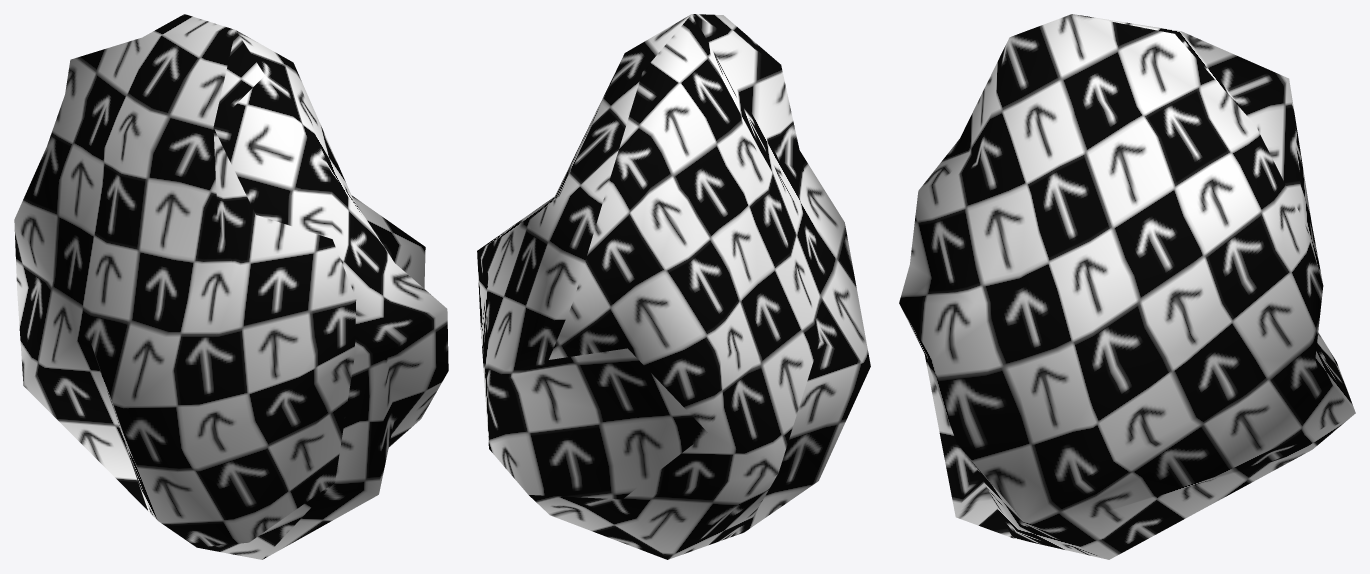
File: 05_meshwire_obj.fbx
The picture shows the model from 3 angles, left to right: view 1: azimuth 30°, elevation 25°; view 2: azimuth 150°, elevation 25°; view 3: azimuth 270°, elevation 25°; orthographic projection. The views are drawn at different scales.
Parts seen in each view (by area): view 1: _05_meshwire_obj; view 2: _05_meshwire_obj; view 3: _05_meshwire_obj.
Boxes of the visible parts, x1,y1,x2,y2 form: _05_meshwire_obj: [14, 14, 448, 559]; _05_meshwire_obj: [477, 14, 870, 559]; _05_meshwire_obj: [899, 14, 1355, 559].
Size of the model in its own units: 5.45 by 7.59 by 5.98.
Materials: 1 (1 with a texture image).
